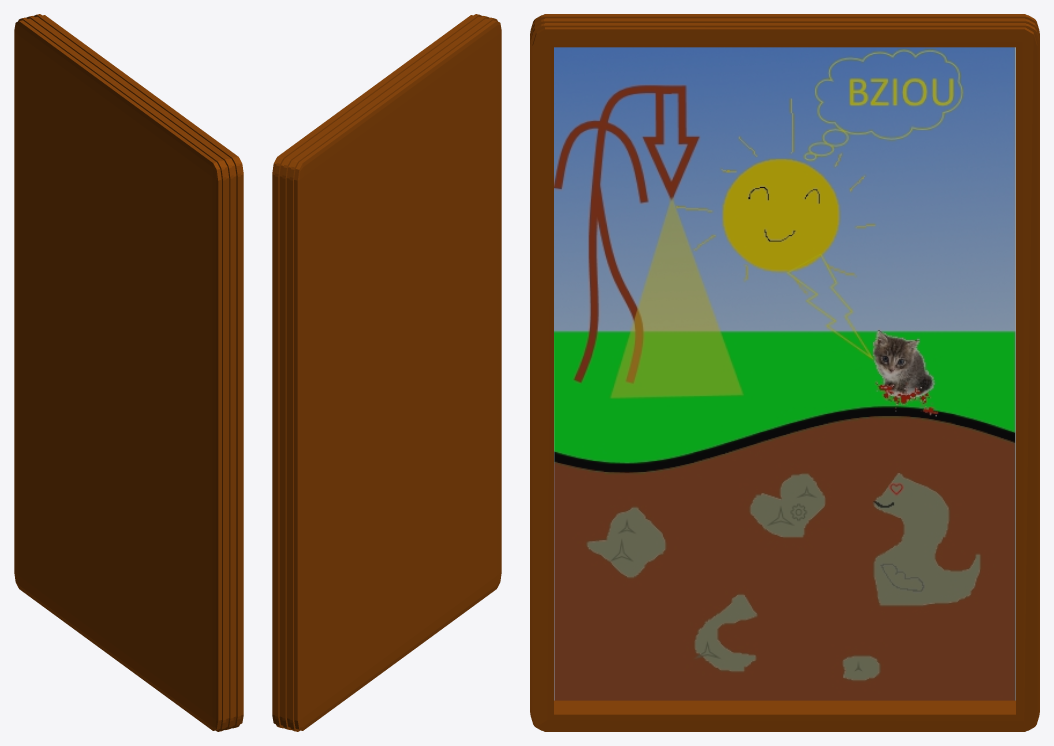
Rendered from Tableau1.fbx.
3 views of the same model, side by side, from view 1: azimuth 30°, elevation 25°; view 2: azimuth 150°, elevation 25°; view 3: azimuth 270°, elevation 25° (orthographic). The views are drawn at different scales.
Visible parts, largest first — view 1: Cube; view 2: Cube; view 3: Plane, Cube.
Part boxes in pixels (box(x1,y1,x2,y2)): Cube: box(14, 14, 243, 731); Cube: box(272, 14, 501, 731); Plane: box(554, 47, 1015, 700); Cube: box(530, 14, 1039, 731).
Size of the model in its own units: 16.78 by 339 by 222.
